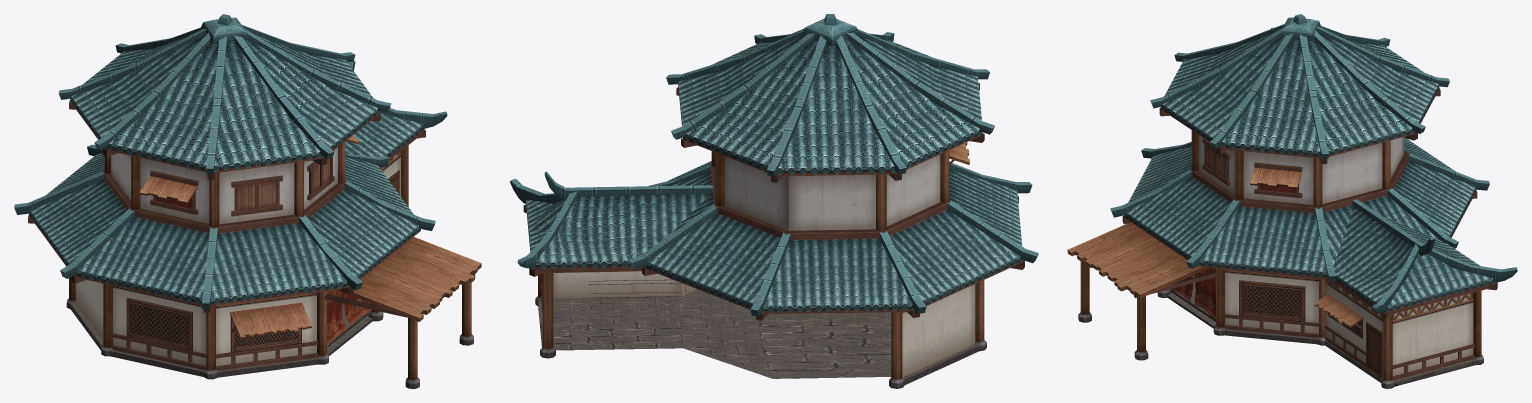
Rendered from xsz_fangzi_2.FBX.
3 renders of one model, left to right at view 1: azimuth 30°, elevation 25°; view 2: azimuth 150°, elevation 25°; view 3: azimuth 270°, elevation 25°, orthographic. The views are drawn at different scales.
Visible parts, largest first — view 1: xsz_fangzi_2; view 2: xsz_fangzi_2; view 3: xsz_fangzi_2.
Part boxes in pixels (x1,y1,x2,y2): xsz_fangzi_2: (14,14,481,388); xsz_fangzi_2: (510,14,1038,388); xsz_fangzi_2: (1067,14,1517,388).
Bounding box in the file's own units: 1431 × 1377 × 921.
